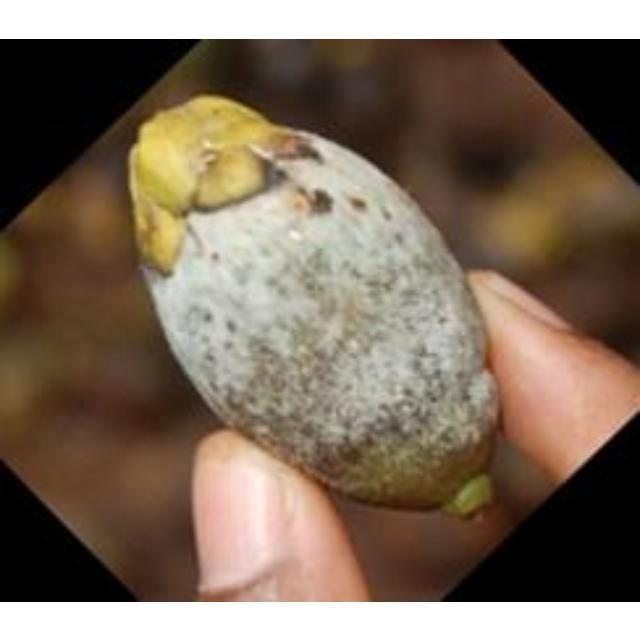damaged: (126, 96, 501, 521)
